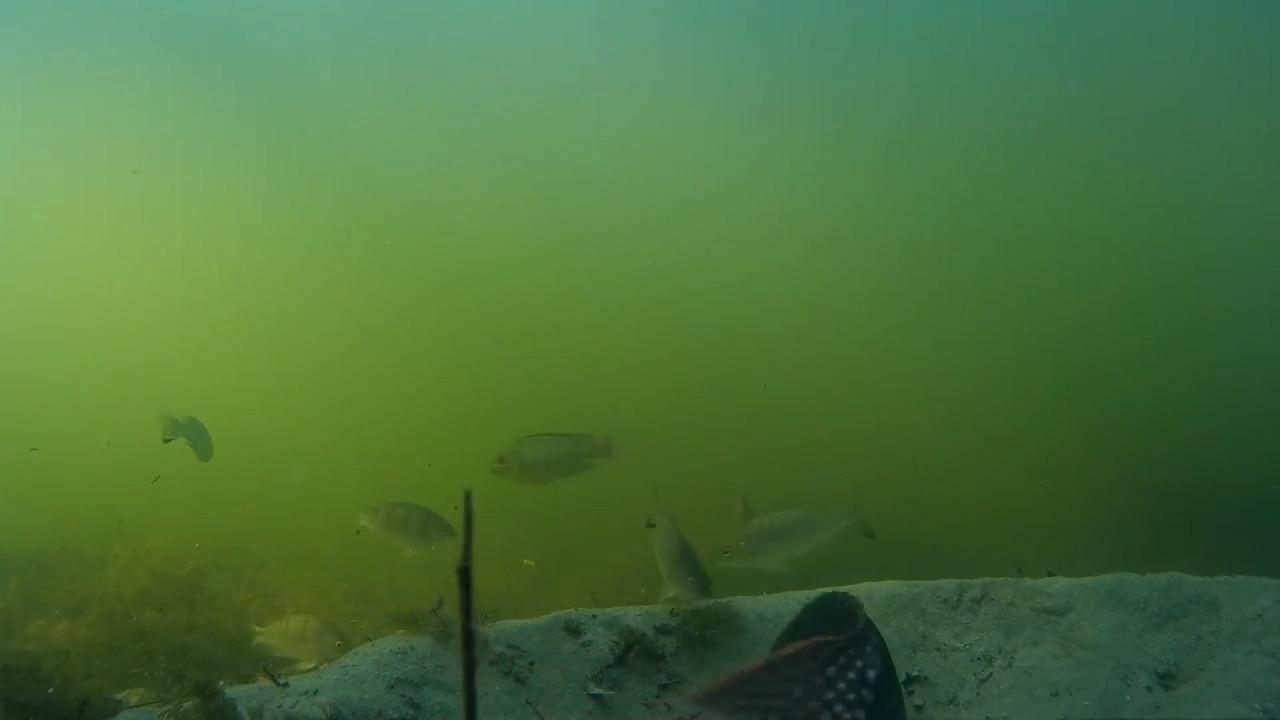Tilapia: (704, 586, 939, 720), (712, 490, 897, 588), (486, 418, 629, 508), (228, 606, 381, 686), (352, 490, 485, 574), (634, 504, 731, 616), (131, 404, 223, 476)
